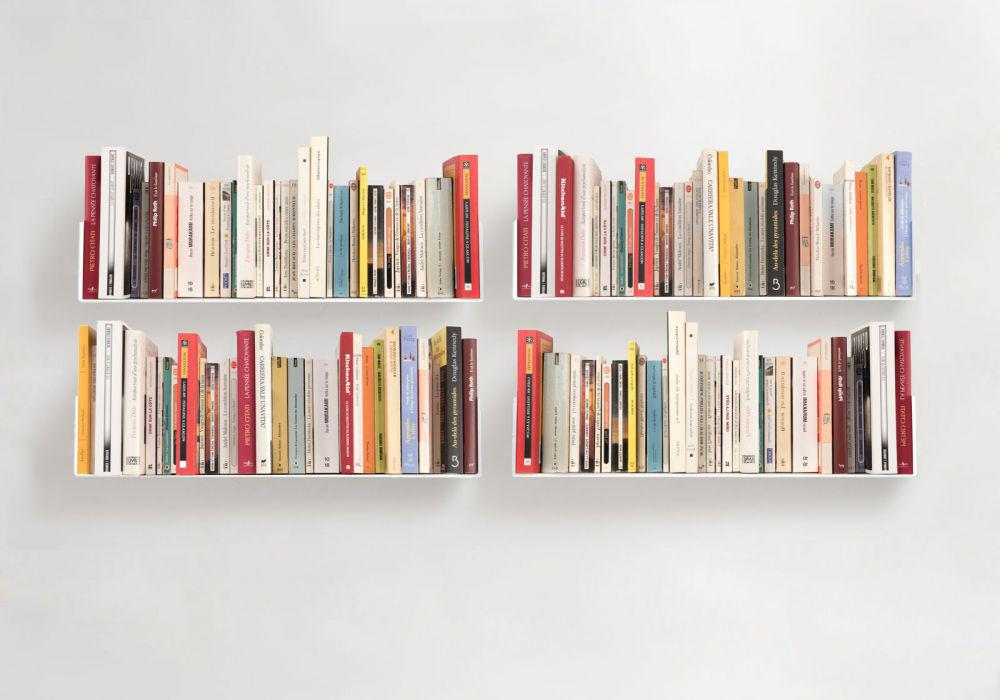book: (430, 180, 453, 301), (103, 156, 121, 292), (403, 335, 419, 474), (671, 318, 685, 472), (538, 153, 553, 296), (546, 362, 565, 473), (575, 163, 591, 294), (101, 326, 115, 473), (319, 362, 336, 476), (826, 190, 843, 298), (183, 189, 200, 295), (636, 163, 649, 298), (178, 340, 191, 474), (772, 159, 785, 291), (558, 163, 571, 295), (706, 157, 718, 294), (242, 338, 254, 473), (518, 337, 530, 468), (314, 143, 324, 295), (127, 339, 138, 471), (745, 183, 758, 293), (732, 185, 745, 293), (466, 347, 477, 474), (900, 159, 910, 297), (243, 162, 253, 294), (151, 170, 161, 295), (389, 338, 398, 474), (371, 190, 382, 295), (651, 370, 662, 472), (522, 157, 530, 295), (87, 159, 95, 297), (859, 175, 868, 297), (884, 162, 892, 293), (301, 152, 308, 295), (261, 329, 268, 471), (405, 188, 414, 298), (451, 333, 458, 471), (707, 159, 714, 293), (208, 192, 217, 295), (801, 166, 808, 292), (585, 364, 593, 473), (619, 365, 627, 472), (695, 177, 702, 295), (603, 367, 610, 474), (603, 187, 610, 293), (698, 174, 704, 296), (223, 192, 229, 297), (619, 183, 624, 294), (688, 187, 693, 296), (679, 187, 684, 295), (573, 363, 576, 474), (633, 352, 635, 475)
